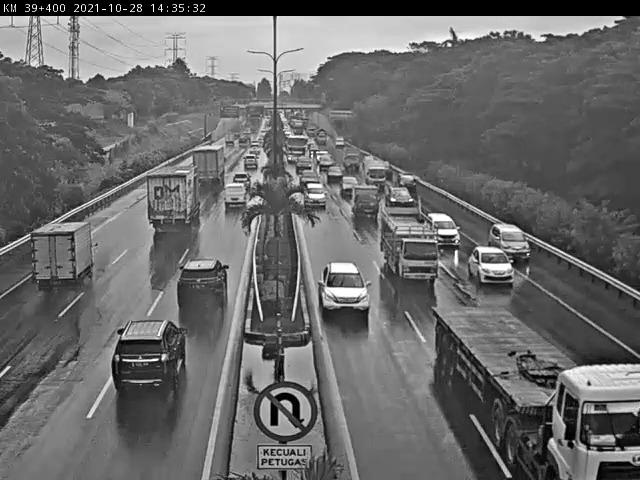big truck: (435, 307, 640, 480), (140, 169, 199, 233), (192, 145, 227, 186), (285, 135, 307, 162)
car: (110, 322, 185, 391), (178, 261, 229, 312), (321, 261, 370, 313), (468, 248, 509, 283), (493, 223, 530, 258), (426, 215, 458, 245), (346, 178, 371, 206), (222, 183, 247, 206), (389, 168, 413, 190), (381, 182, 407, 201), (304, 184, 325, 204), (341, 175, 359, 197), (231, 173, 252, 189), (243, 154, 260, 169), (296, 159, 312, 172), (302, 171, 318, 184), (321, 158, 334, 172), (328, 167, 341, 181), (316, 149, 327, 160)
small truck: (30, 221, 101, 288), (379, 208, 438, 282), (365, 157, 389, 183), (343, 149, 362, 171)
